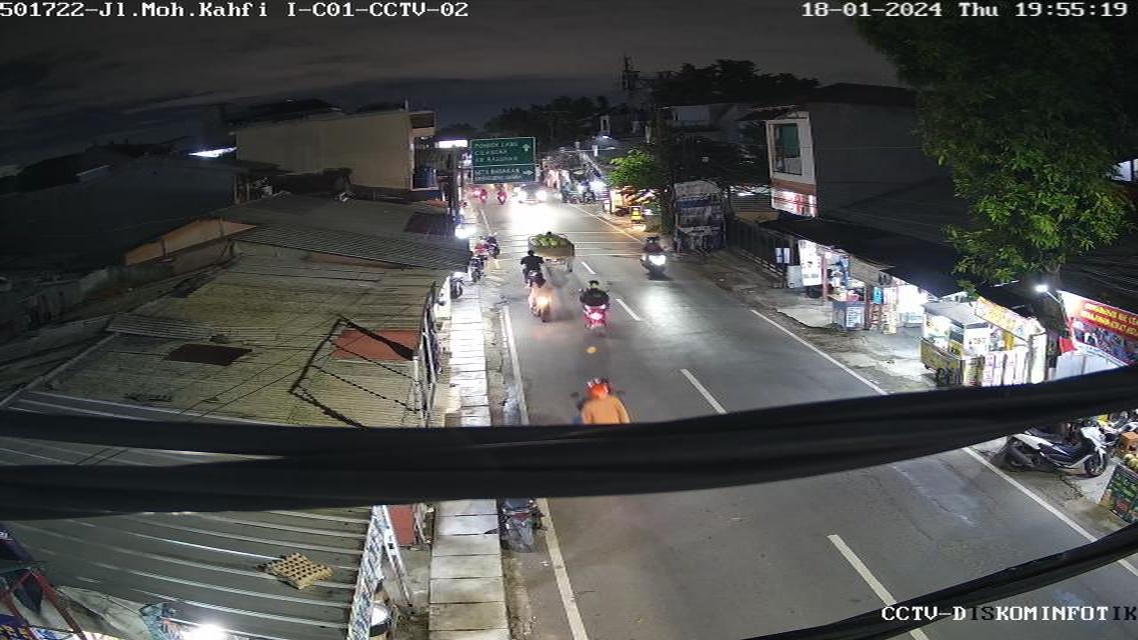Gerobak: (919, 293, 989, 387), (816, 271, 875, 335)
